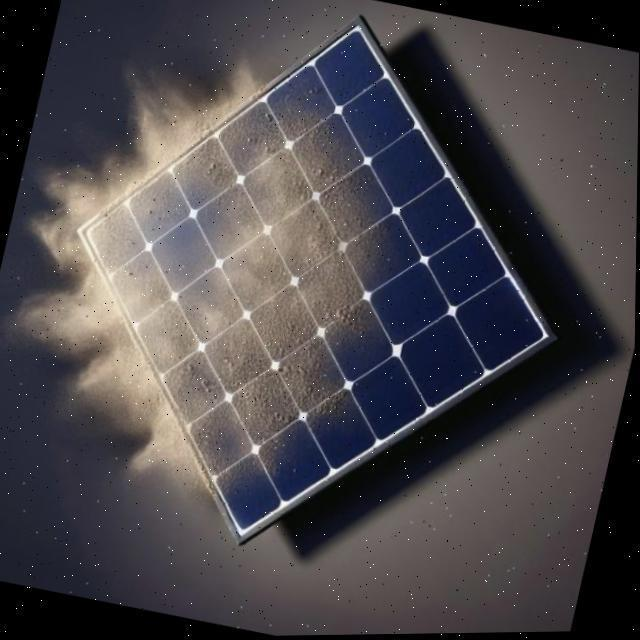Anomaly Solar Panel: (41, 22, 550, 540)
Surface Contaminant: (47, 65, 485, 512)
